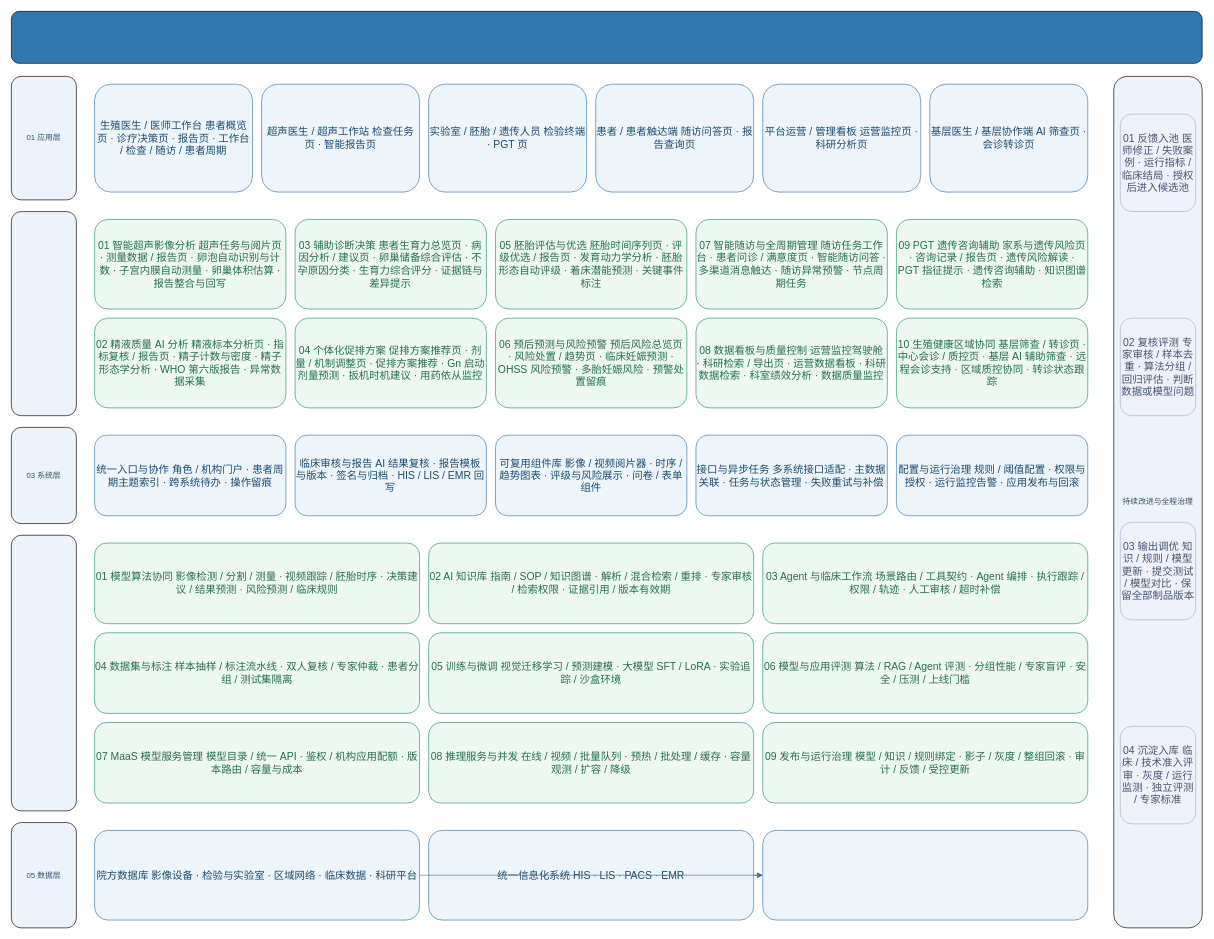
Image size: 1214x939. Some labels were removed from this diagram. Each missing label, with the centre of its shape:
"02 业务层" goes at point (43, 313).
"04 AI 层" goes at point (43, 673).
"数据定义标准化 数据字典 / 单位 / 术语 · 脱敏 / 权限 / 加密 · 实体关联 / 时间 · 数据版本 / 审计 · 临床 / 科研数据边界" goes at point (925, 875).
"生殖专科 AI 辅助诊疗｜总体架构" goes at point (606, 37).
